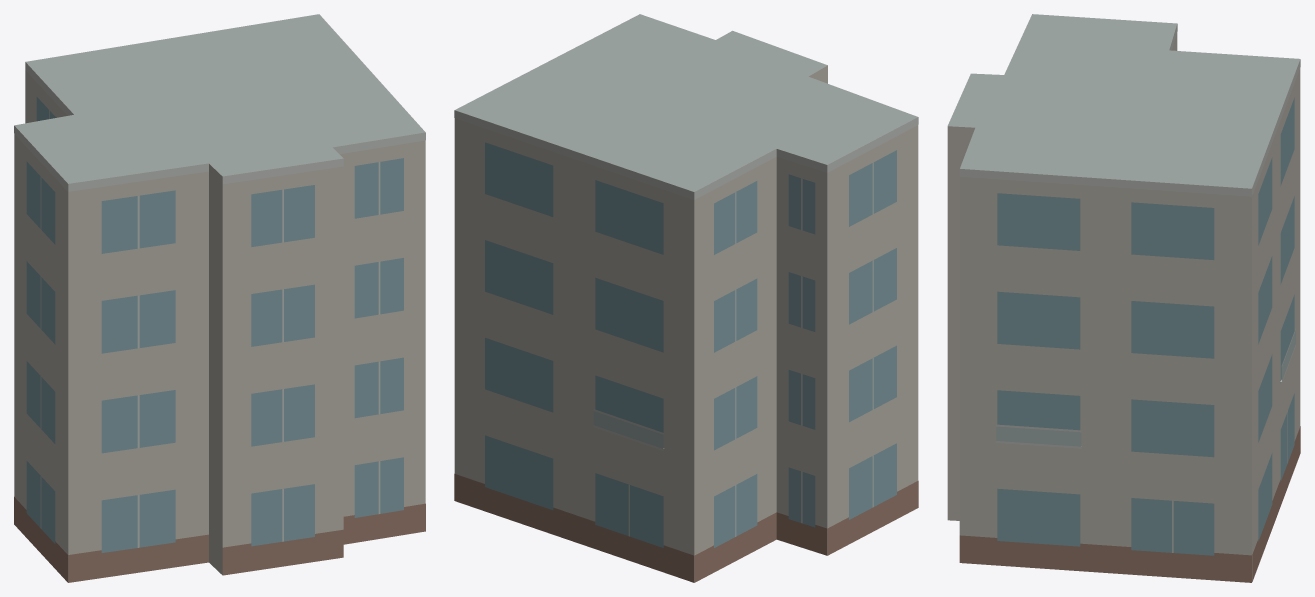
The model's file is survey-upis-32989832.glb.
3 views of the same model, side by side, from view 1: azimuth 30°, elevation 25°; view 2: azimuth 150°, elevation 25°; view 3: azimuth 270°, elevation 25° (orthographic). The views are drawn at different scales.
Visible parts, largest first — view 1: survey-upis-32989832.tmp; view 2: survey-upis-32989832.tmp; view 3: survey-upis-32989832.tmp.
Boxes of the visible parts, x1,y1,x2,y2 form: survey-upis-32989832.tmp: [14, 14, 425, 582]; survey-upis-32989832.tmp: [454, 14, 918, 582]; survey-upis-32989832.tmp: [947, 14, 1300, 582].
Size of the model in its own units: 11.61 by 12.2 by 9.91.
